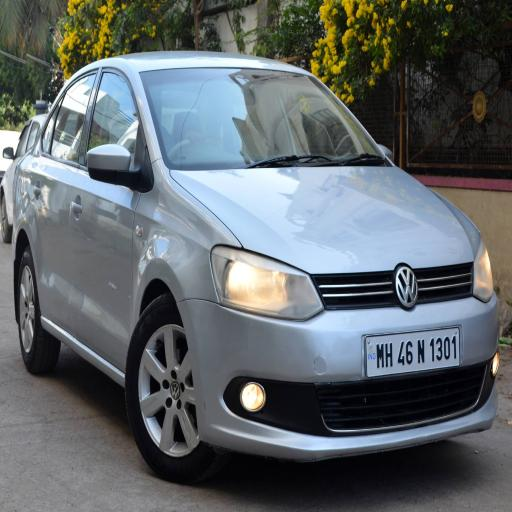License: (358, 324, 467, 376)
